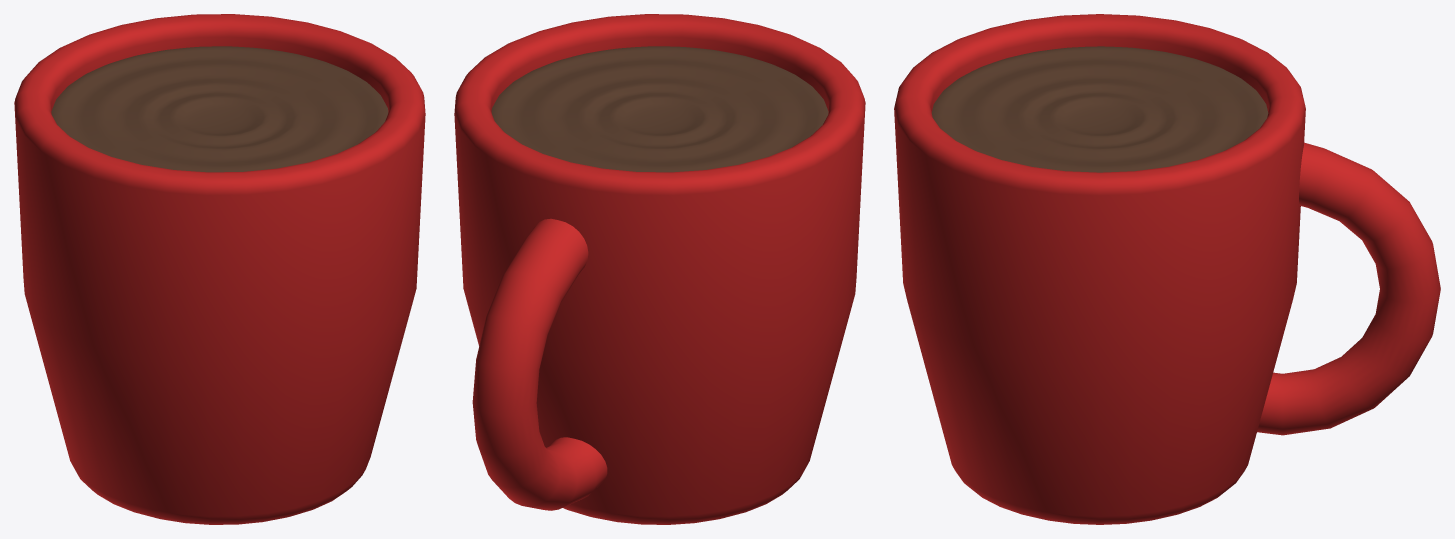
File: XicaraCafe.fbx
The picture shows the model from 3 angles, left to right: view 1: azimuth 30°, elevation 25°; view 2: azimuth 150°, elevation 25°; view 3: azimuth 270°, elevation 25°; orthographic projection.
Parts seen in each view (by area): view 1: Xicara_Cafe; view 2: Xicara_Cafe; view 3: Xicara_Cafe.
Part boxes in pixels (x1,y1,x2,y2): Xicara_Cafe: [14, 14, 425, 524]; Xicara_Cafe: [454, 14, 865, 524]; Xicara_Cafe: [894, 14, 1440, 524].
Size of the model in its own units: 200 by 200 by 266.
Materials: 2 (1 with a texture image).
